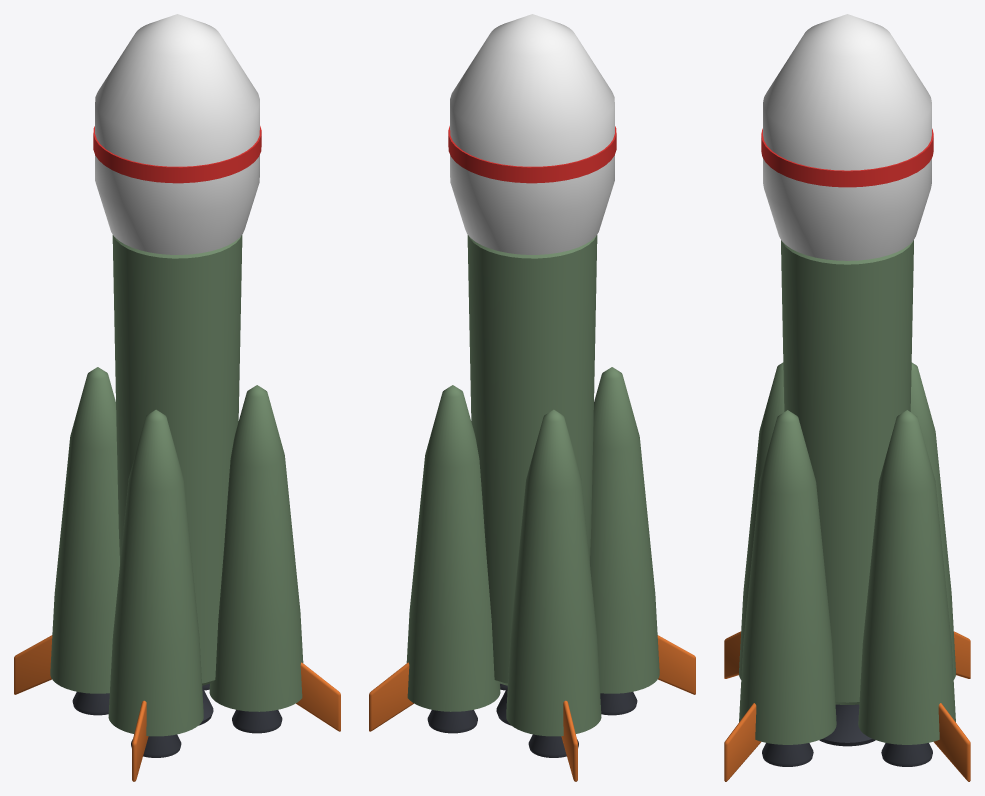
The model's file is Rocket_14_Soyuz.fbx.
The picture shows the model from 3 angles, left to right: view 1: azimuth 30°, elevation 25°; view 2: azimuth 150°, elevation 25°; view 3: azimuth 270°, elevation 25°; orthographic projection. The views are drawn at different scales.
Visible parts, largest first — view 1: R14_Core, R14_Fairing, R14_Booster_3, R14_Booster_4, R14_Booster_2, R14_Band, R14_BoosterFin_4, R14_BoosterFin_2, R14_Nozzle_5, R14_BoosterFin_3, R14_Nozzle_3, R14_Nozzle_4; view 2: R14_Core, R14_Fairing, R14_Booster_2, R14_Booster, R14_Booster_3, R14_Band, R14_BoosterFin, R14_BoosterFin_3, R14_Nozzle_2, R14_BoosterFin_2, R14_Nozzle_4, R14_Nozzle_3; view 3: R14_Core, R14_Fairing, R14_Booster, R14_Booster_4, R14_Band, R14_Booster_2, R14_Booster_3, R14_BoosterFin, R14_BoosterFin_4, R14_Nozzle, R14_Nozzle_2, R14_Nozzle_5 (+2 smaller).
Part boxes in pixels (<box>): R14_Core: <box>112,235,242,685</box>; R14_Fairing: <box>95,14,259,254</box>; R14_Booster_3: <box>108,409,203,736</box>; R14_Booster_4: <box>209,385,303,711</box>; R14_Booster_2: <box>50,367,119,693</box>; R14_Band: <box>93,126,261,183</box>; R14_BoosterFin_4: <box>296,662,340,731</box>; R14_BoosterFin_2: <box>14,635,52,694</box>; R14_Nozzle_5: <box>232,710,282,733</box>; R14_BoosterFin_3: <box>132,700,148,781</box>; R14_Nozzle_3: <box>72,692,109,715</box>; R14_Nozzle_4: <box>131,734,181,757</box>; R14_Core: <box>467,235,597,685</box>; R14_Fairing: <box>450,14,614,254</box>; R14_Booster_2: <box>506,409,601,736</box>; R14_Booster: <box>406,385,500,711</box>; R14_Booster_3: <box>590,367,659,693</box>; R14_Band: <box>448,126,616,183</box>; R14_BoosterFin: <box>369,662,413,731</box>; R14_BoosterFin_3: <box>657,635,695,694</box>; R14_Nozzle_2: <box>427,710,477,733</box>; R14_BoosterFin_2: <box>561,700,577,781</box>; R14_Nozzle_4: <box>600,692,637,715</box>; R14_Nozzle_3: <box>528,734,578,757</box>; R14_Core: <box>781,240,913,704</box>; R14_Fairing: <box>763,14,931,260</box>; R14_Booster: <box>858,410,955,744</box>; R14_Booster_4: <box>739,410,836,744</box>; R14_Band: <box>761,128,933,187</box>; R14_Booster_2: <box>910,362,955,679</box>; R14_Booster_3: <box>739,362,784,679</box>; R14_BoosterFin: <box>933,703,970,781</box>; R14_BoosterFin_4: <box>724,703,761,781</box>; R14_Nozzle: <box>819,704,875,746</box>; R14_Nozzle_2: <box>881,743,932,766</box>; R14_Nozzle_5: <box>762,743,813,766</box>.
Bounding box in the file's own units: 2.77 × 8.9 × 2.77.
